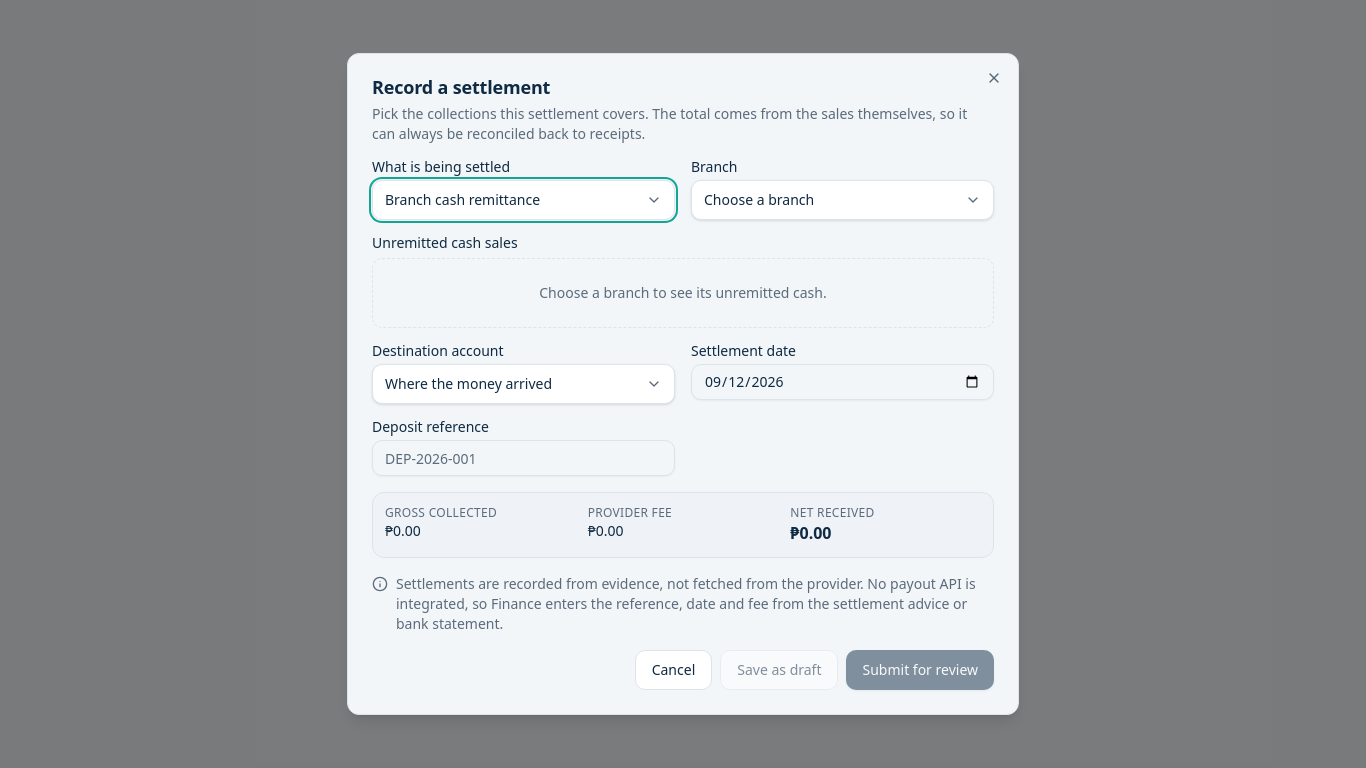
Test: picking the collections › ticks every row at once, and says how many
This screenshot has width=1366, height=768.
Press ArrowDown in the dropdown labelled "branch", box [691,180,994,220]
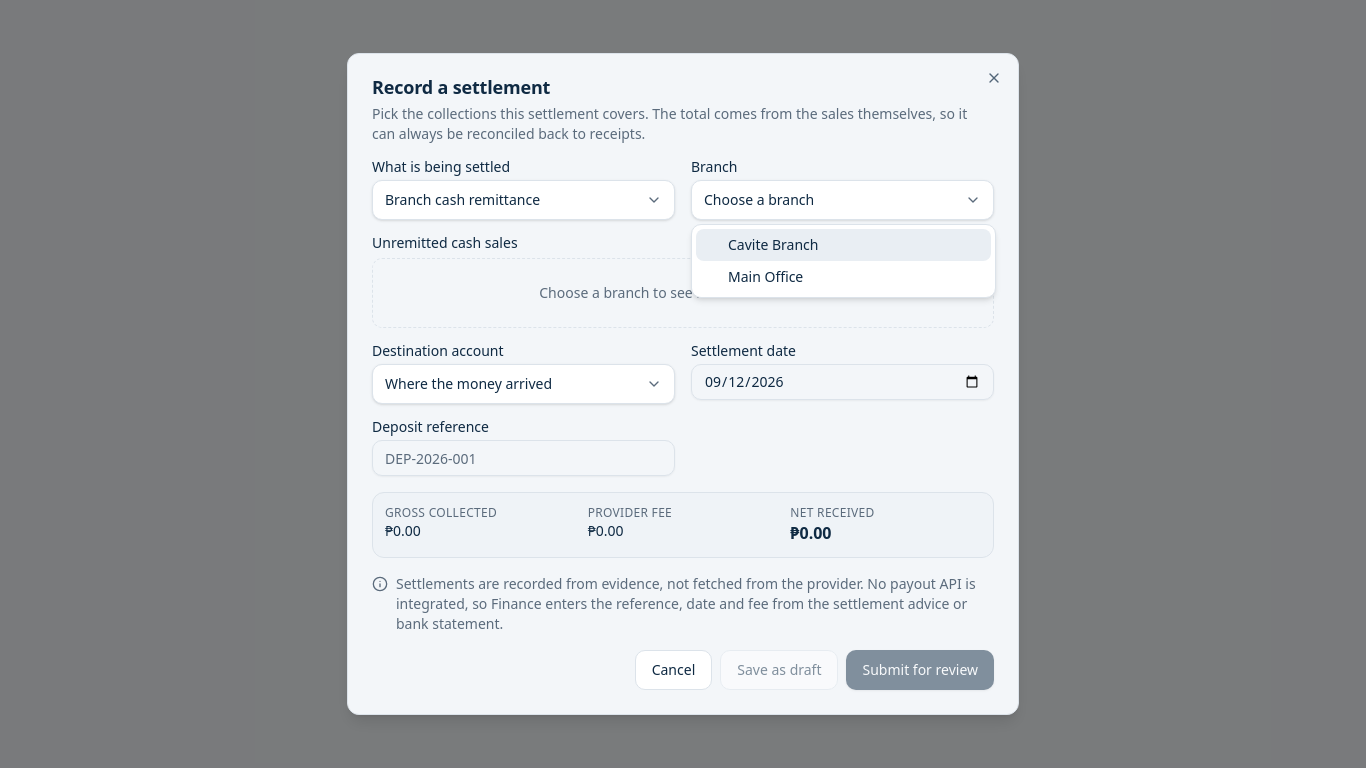
Click the option "Cavite Branch": x=773, y=244 [696,229,991,261]
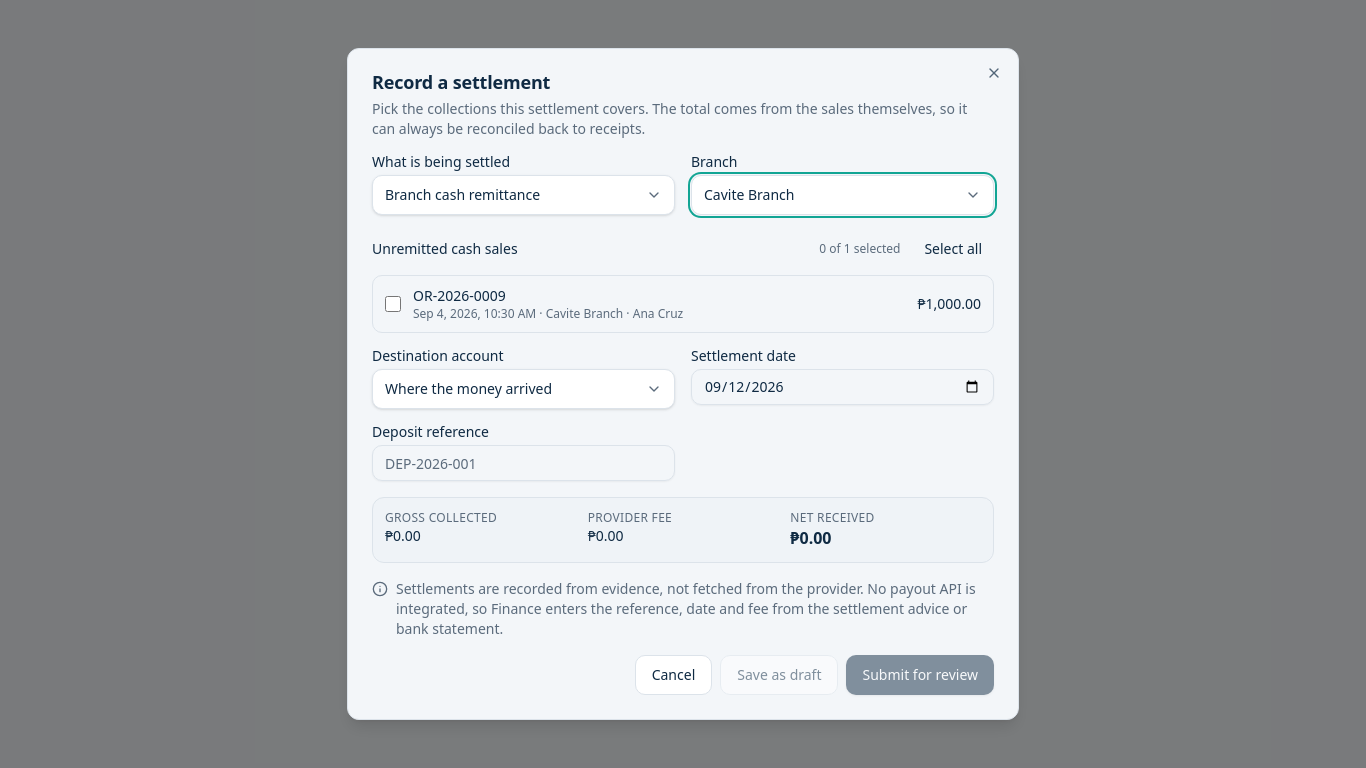
Expected: the checkbox is shown, [385,296,401,312]
Click the button "Select all": x=953, y=249 [912,231,994,267]
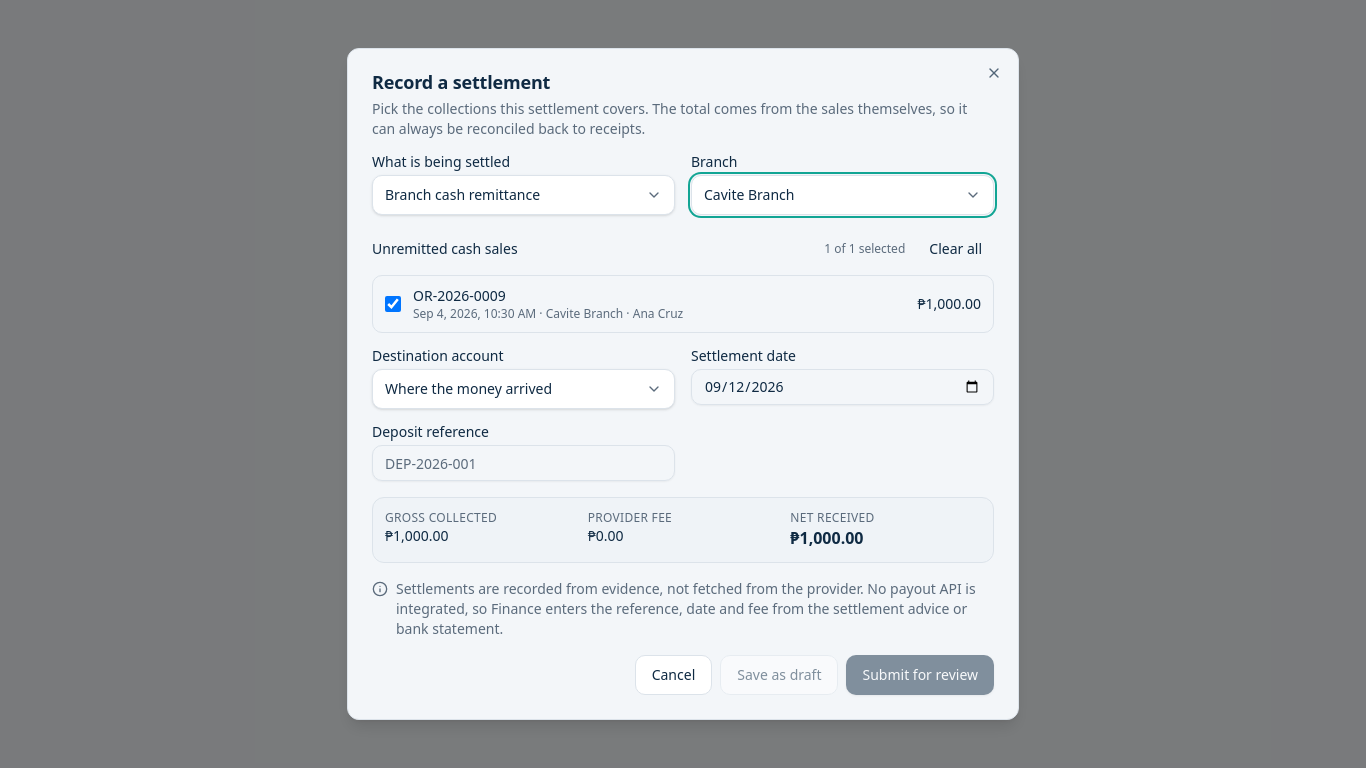
Expected: the checkbox is checked, [385,296,401,312]
Expected: the text "1 of 1 selected" is shown, [824,241,905,257]
